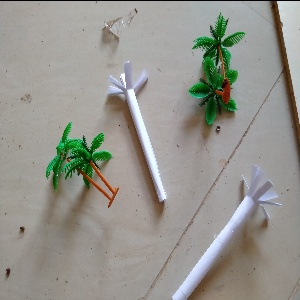plant: (30, 121, 133, 213), (186, 12, 244, 130)
weed: (160, 163, 286, 300), (93, 59, 182, 210)
